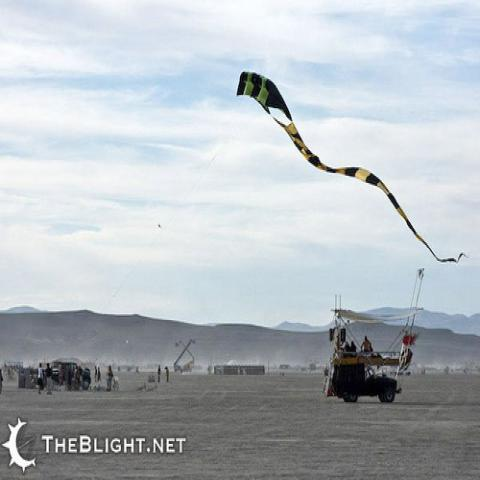car: (52, 362, 76, 384), (82, 370, 90, 390)
truck: (330, 350, 401, 404)
